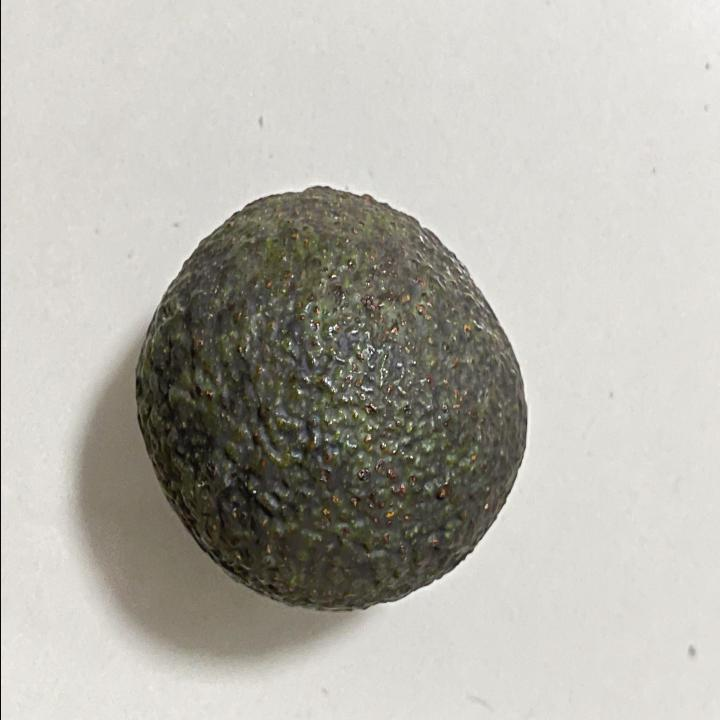Level1: (119, 169, 542, 620)
